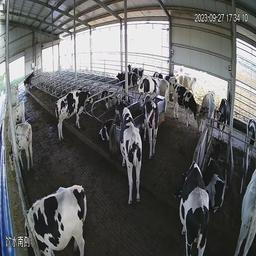cow: (17, 175, 91, 250), (114, 101, 146, 219), (177, 158, 211, 252), (50, 80, 91, 145), (234, 151, 255, 254), (208, 138, 228, 235), (3, 119, 36, 171), (140, 88, 160, 156), (171, 80, 197, 129), (137, 66, 168, 104), (198, 86, 217, 136), (3, 100, 27, 131), (117, 67, 135, 94), (95, 113, 111, 140), (219, 94, 227, 141), (100, 84, 116, 107), (5, 84, 21, 102), (23, 70, 34, 92)
